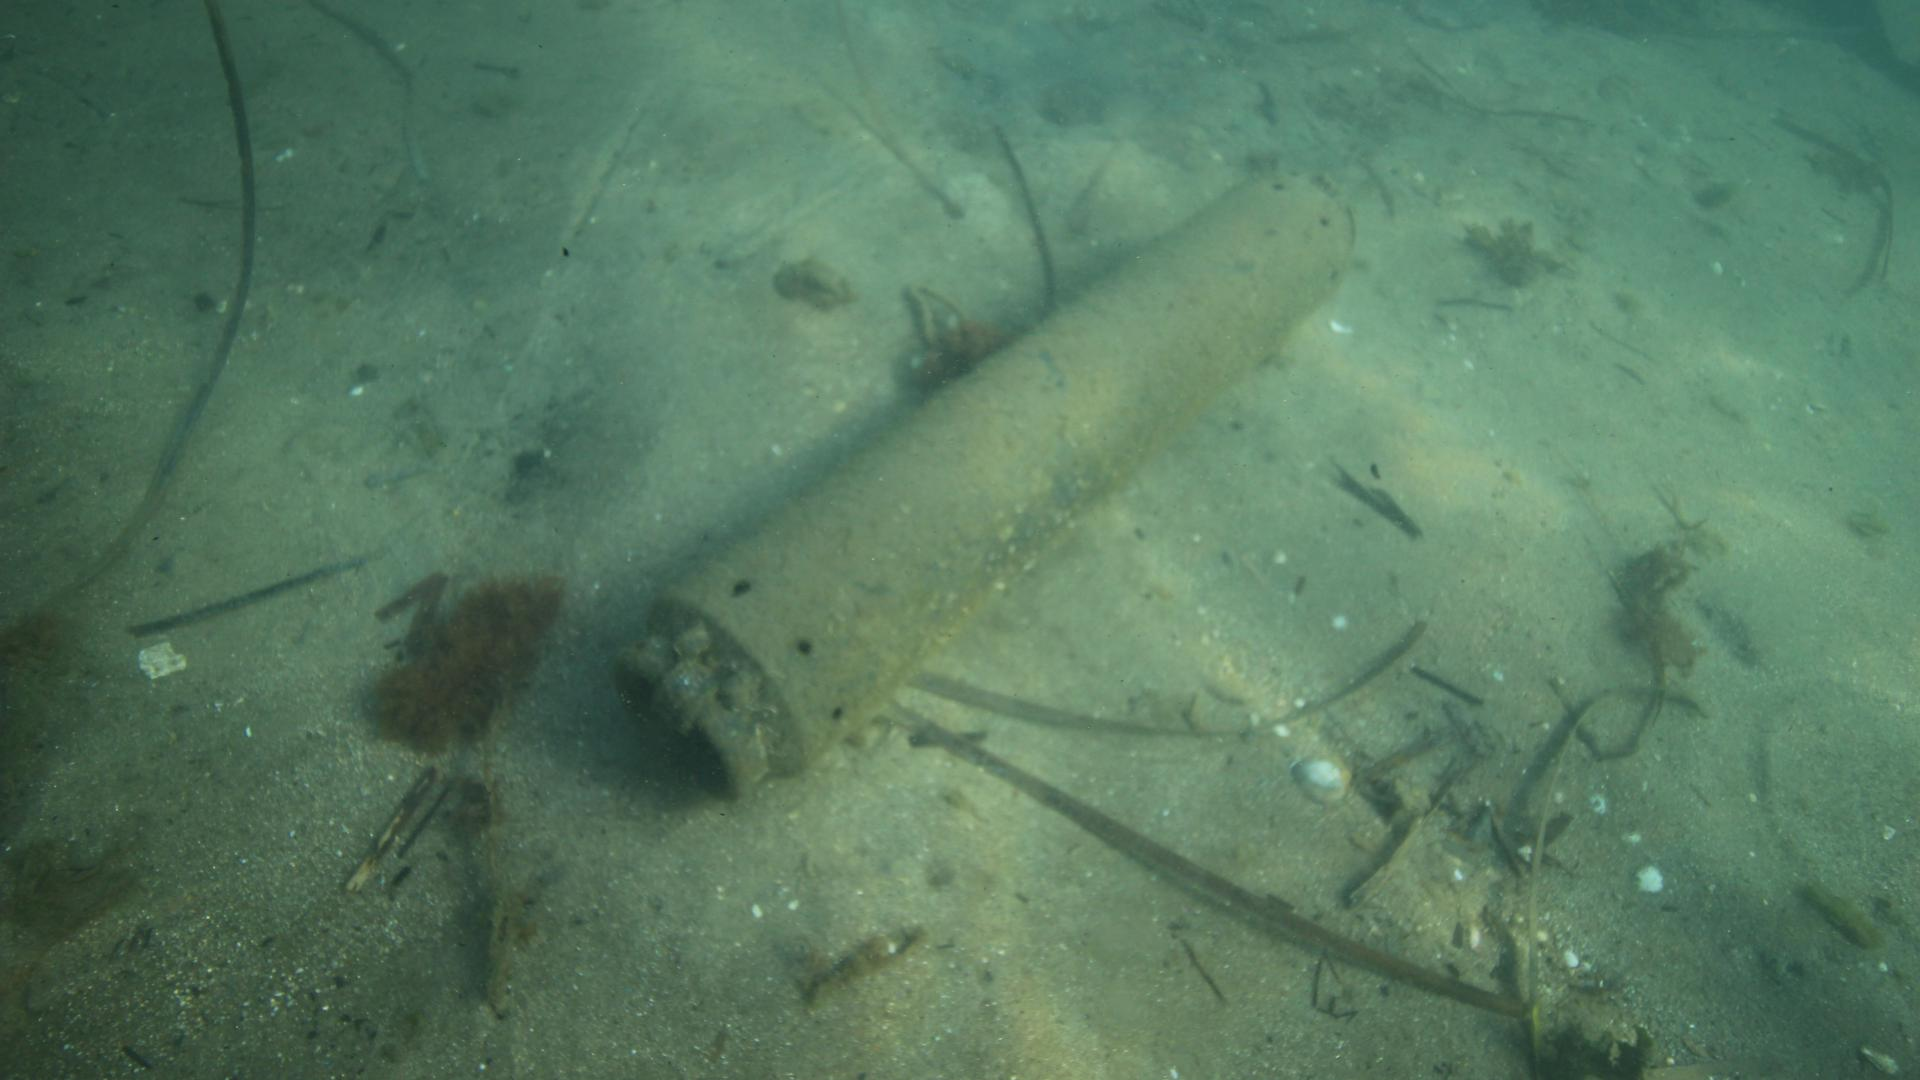eel fish trap: (612, 166, 1364, 803)
